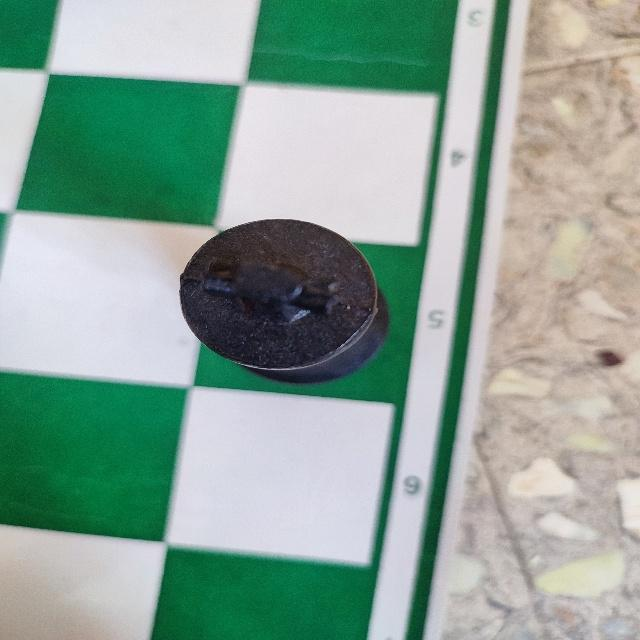King: (174, 214, 396, 387)
